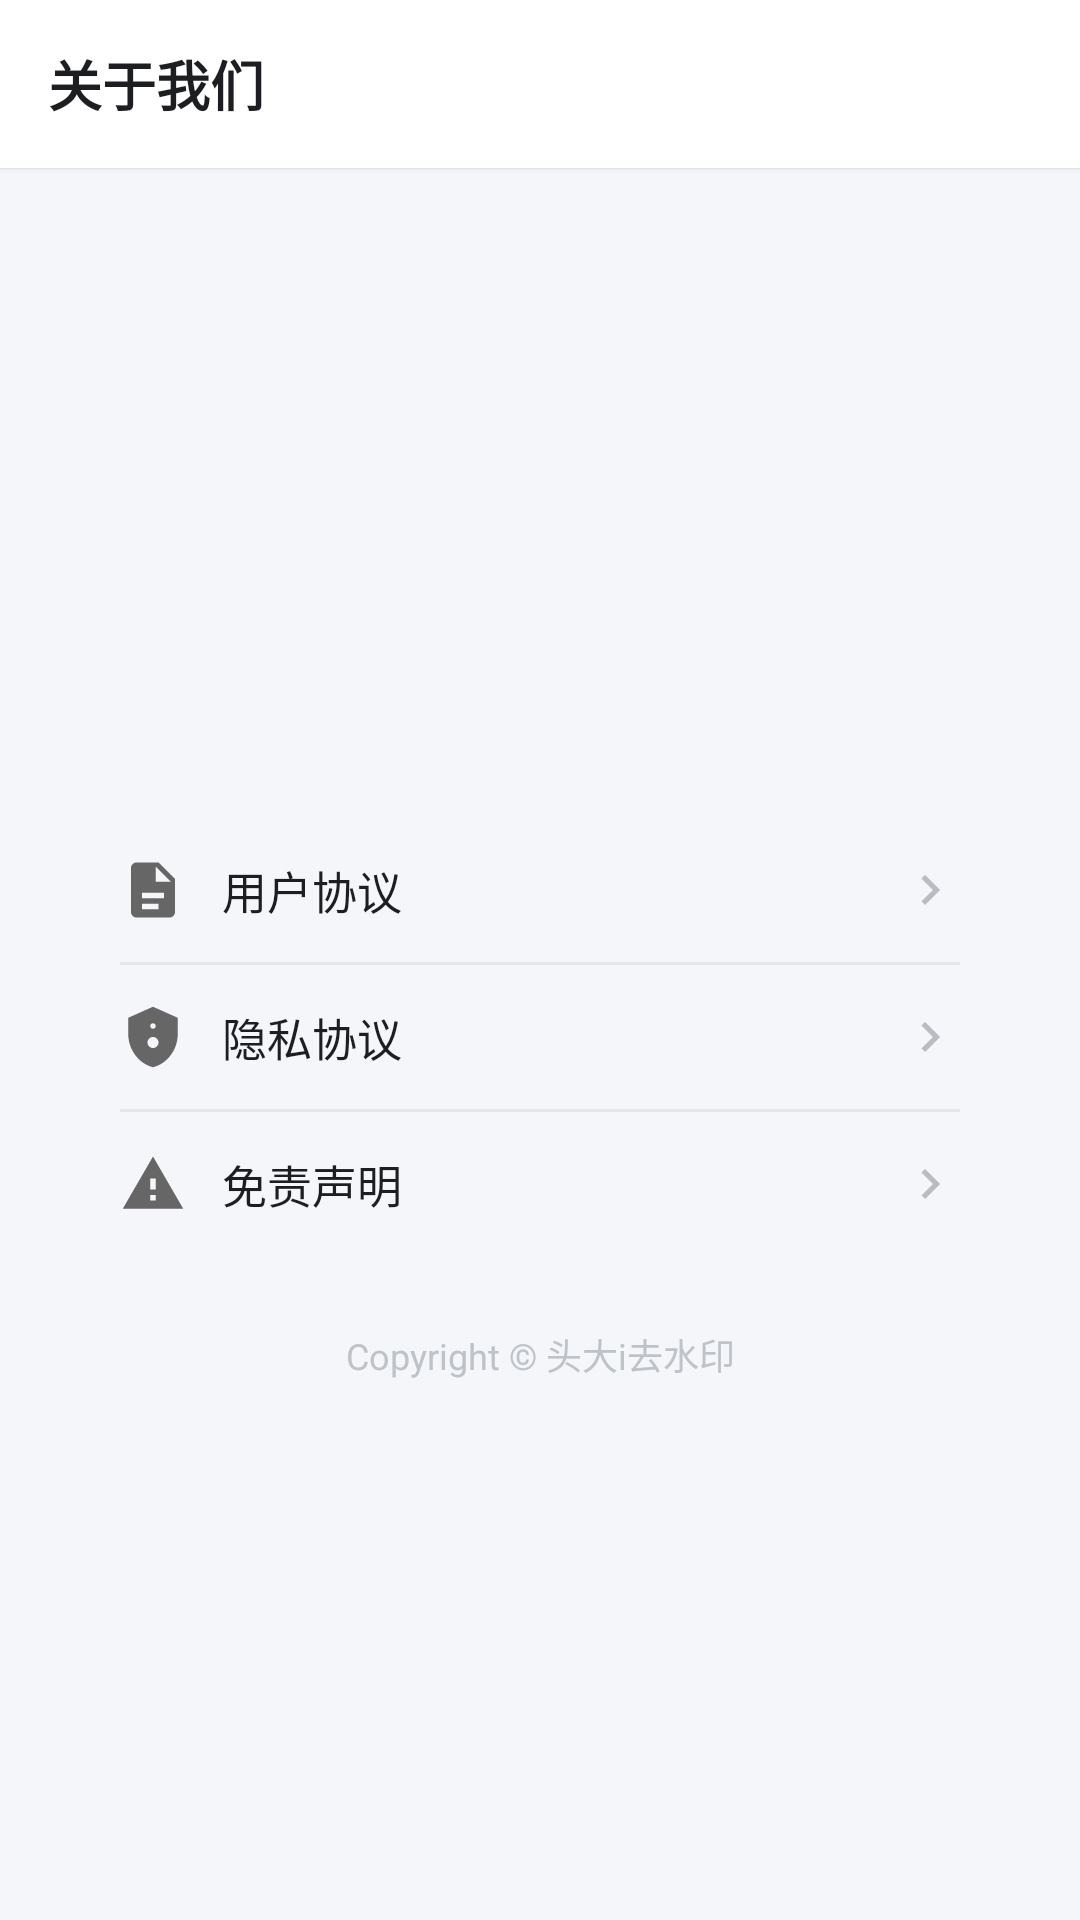

Where to tap for icons on this 1080px×1920px app screen, as [x,y]:
arrow right: [931,890], [931,1037], [931,1184]
disclaimer: [153,1183]
doc: [153,890]
privacy: [153,1037]
